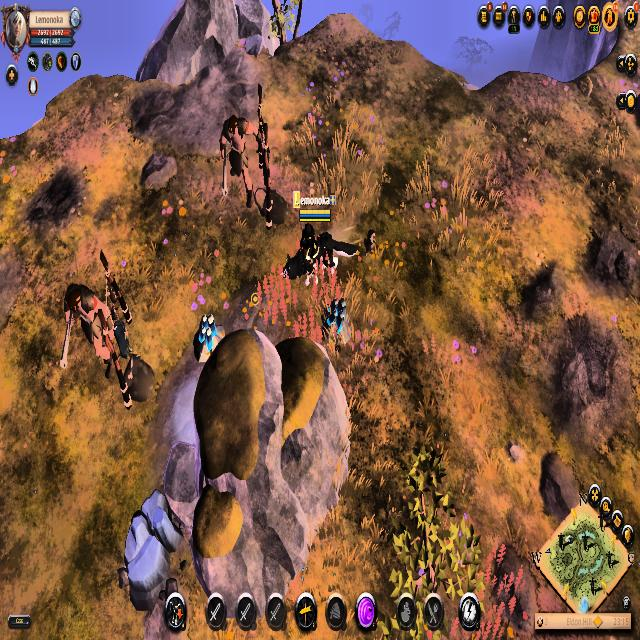ore tier 4: (194, 312, 227, 368), (321, 296, 354, 350)
rock tier 4: (119, 492, 184, 612)
